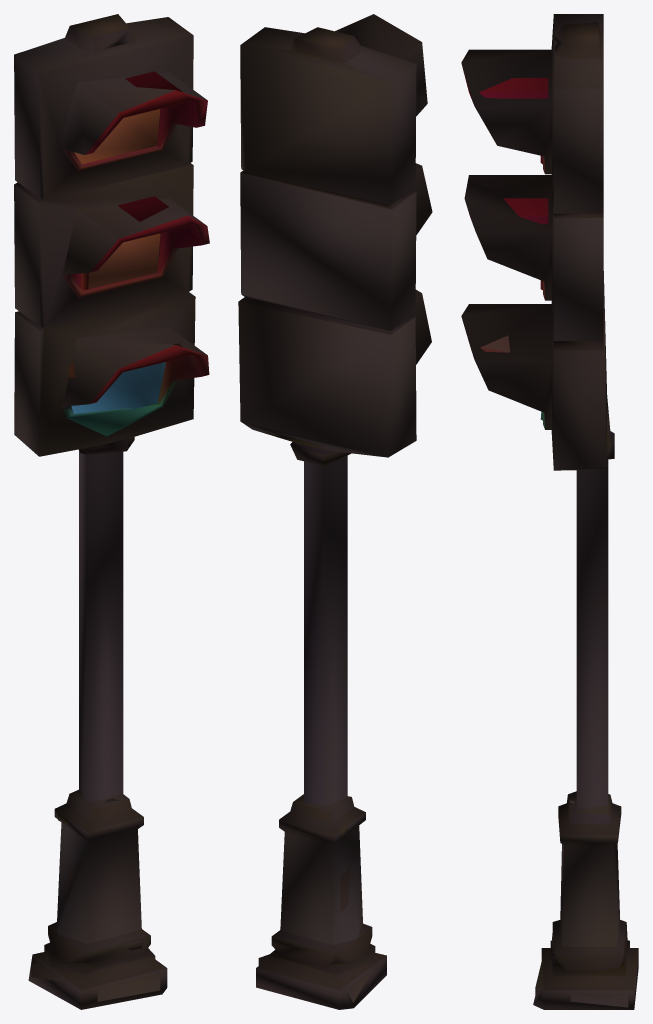
File: model.progressive.glb
3 views of the same model, side by side, from view 1: azimuth 30°, elevation 25°; view 2: azimuth 150°, elevation 25°; view 3: azimuth 270°, elevation 25° (orthographic).
Parts seen in each view (by area): view 1: material; view 2: material; view 3: material.
Part boxes in pixels (x1,y1,x2,y2): material: (14, 14, 209, 1009); material: (238, 14, 432, 1009); material: (461, 14, 638, 1009).
Size of the model in its own units: 0.3221 by 1.89 by 0.3183.
1 material, 1 textured.
